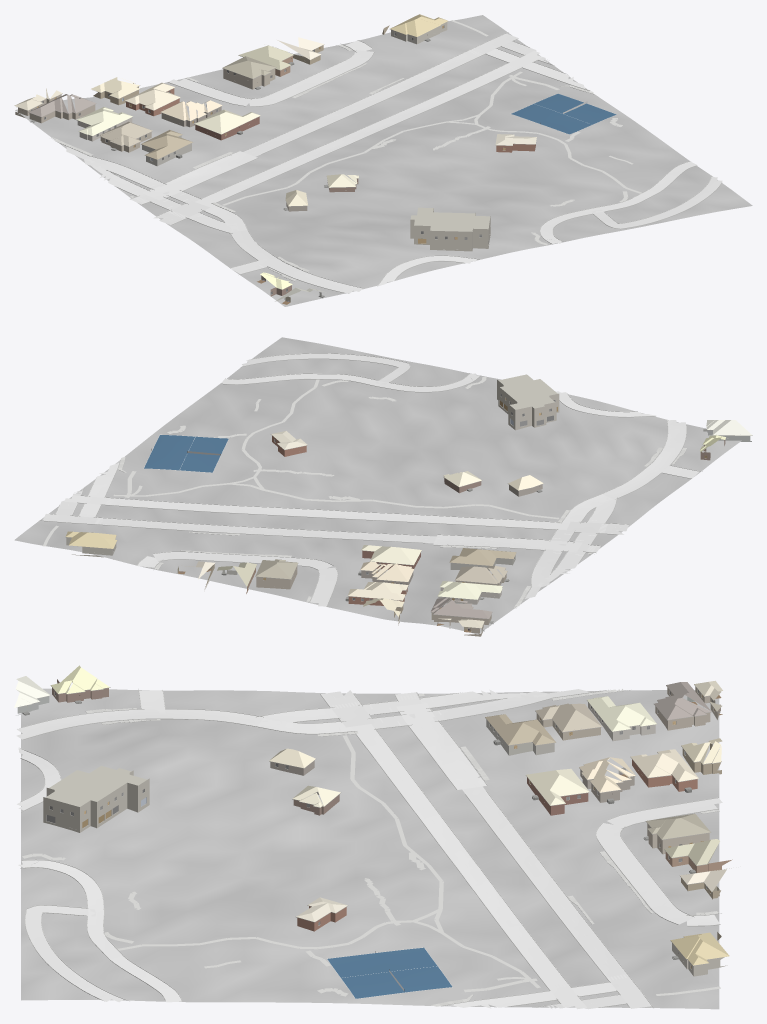
The picture shows the model from 3 angles, top to bottom: view 1: azimuth 30°, elevation 25°; view 2: azimuth 150°, elevation 25°; view 3: azimuth 270°, elevation 25°; orthographic projection. The views are drawn at different scales.
Parts seen in each view (by area): view 1: ground, roof, concrete, asphalt, curb, detail, wall, walk, wall_stucco, wall_com, roof_flat, mark_w; view 2: ground, roof, concrete, asphalt, curb, detail, walk, wall, wall_stucco, roof_flat, wall_com, mark_w; view 3: ground, asphalt, concrete, roof, detail, wall, walk, curb, wall_com, wall_stucco, roof_flat, mark_w (+1 smaller).
Part boxes in pixels (x1,y1,x2,y2): ground: (15, 15, 752, 306); roof: (14, 14, 536, 301); concrete: (66, 40, 722, 293); asphalt: (130, 33, 584, 224); curb: (56, 32, 721, 293); detail: (18, 21, 616, 300); wall: (15, 25, 535, 296); walk: (51, 20, 641, 280); wall_stucco: (77, 22, 447, 166); wall_com: (410, 208, 490, 251); roof_flat: (410, 207, 490, 231); mark_w: (132, 33, 616, 267); ground: (14, 337, 741, 634); roof: (65, 420, 752, 628); concrete: (137, 353, 699, 606); asphalt: (43, 463, 628, 552); curb: (39, 353, 702, 605); detail: (65, 394, 752, 631); walk: (43, 377, 686, 608); wall: (113, 436, 725, 636); wall_stucco: (66, 430, 751, 604); roof_flat: (498, 374, 557, 409); wall_com: (497, 380, 559, 430); mark_w: (42, 434, 673, 555); ground: (21, 688, 719, 1009); asphalt: (321, 690, 651, 1009); concrete: (16, 689, 722, 1002); roof: (14, 665, 731, 965); detail: (19, 684, 726, 998); wall: (52, 679, 732, 940); walk: (22, 689, 720, 1006); curb: (19, 688, 721, 1007); wall_com: (43, 770, 149, 832); wall_stucco: (16, 696, 727, 976); roof_flat: (45, 765, 146, 806); mark_w: (142, 693, 651, 1007).
Bounding box in the file's own units: 257 × 20.22 × 265.
